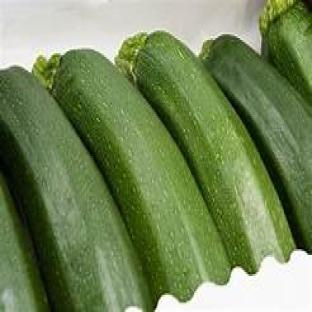Zucchini: (46, 50, 230, 304), (117, 31, 294, 272), (0, 67, 150, 311), (203, 37, 311, 253), (0, 174, 49, 311)
